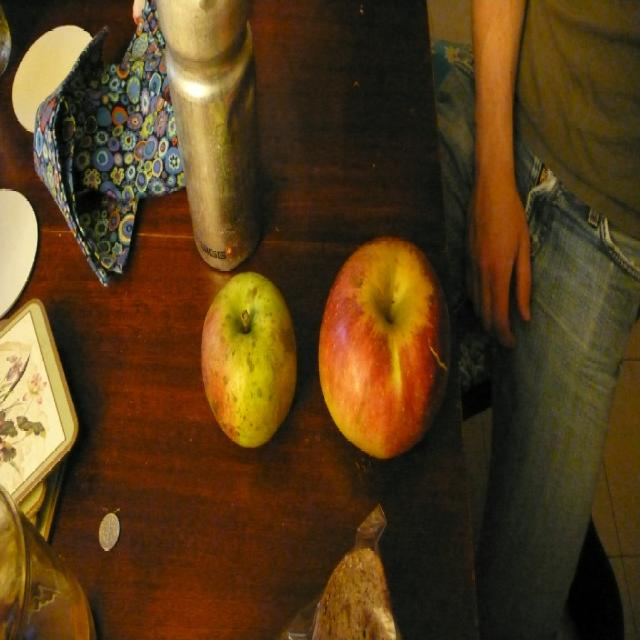Healty Apple: (315, 234, 452, 461), (200, 269, 299, 451)
